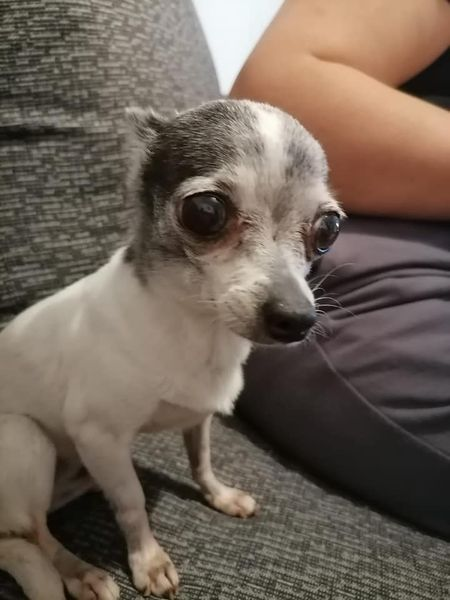dog: (1, 97, 348, 599)
